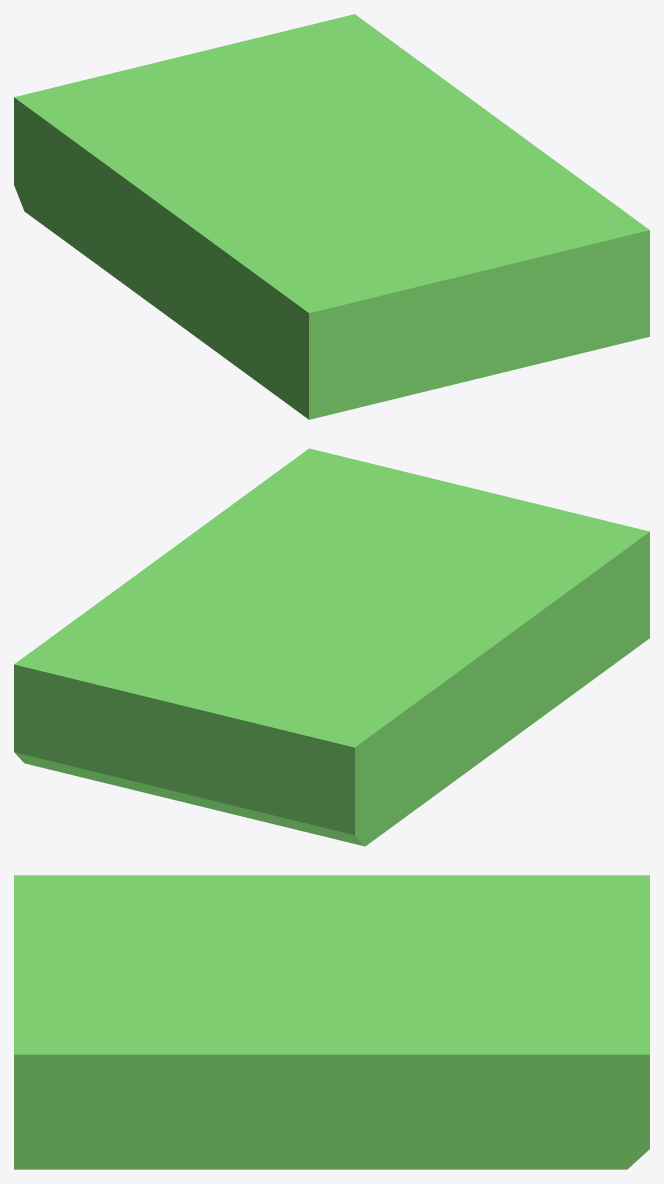
File: sm_Collider26.fbx
3 renders of one model, top to bottom at view 1: azimuth 30°, elevation 25°; view 2: azimuth 150°, elevation 25°; view 3: azimuth 270°, elevation 25°, orthographic. The views are drawn at different scales.
Parts seen in each view (by area): view 1: sm_Collider.034; view 2: sm_Collider.034; view 3: sm_Collider.034.
Boxes of the visible parts, left/top/right/bottom form: sm_Collider.034: left=14, top=14, right=649, bottom=419; sm_Collider.034: left=14, top=448, right=649, bottom=846; sm_Collider.034: left=14, top=875, right=649, bottom=1169.
Bounding box in the file's own units: 500 × 149 × 750.
